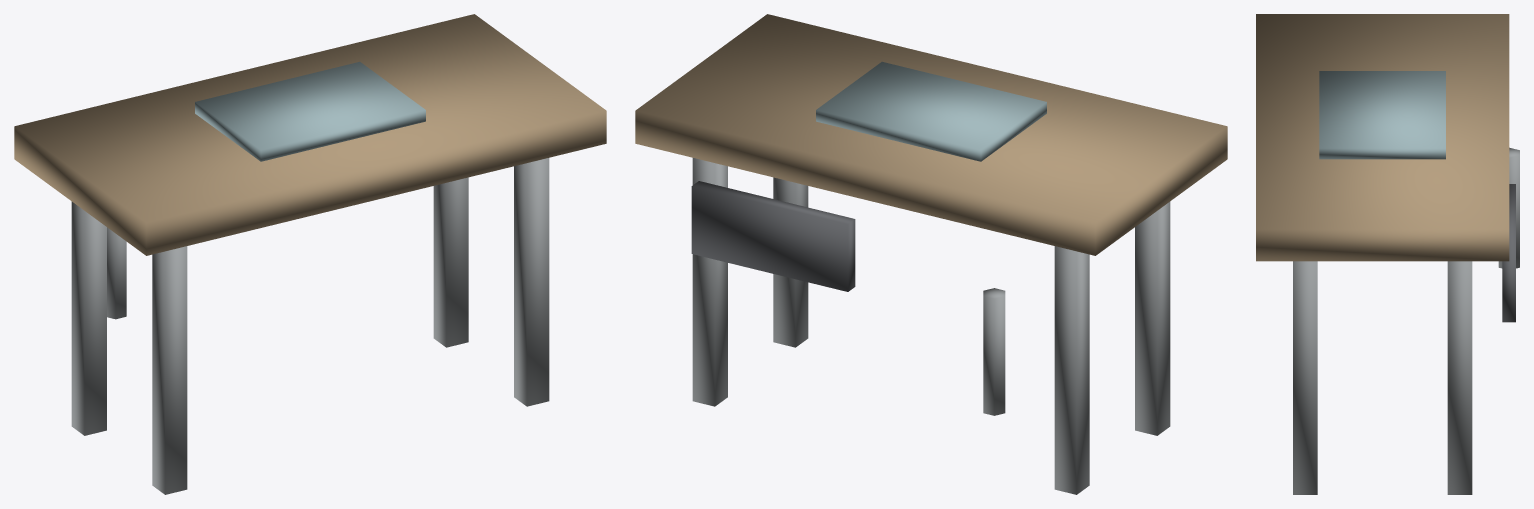
The model's file is material_inspection_table__service.glb.
3 renders of one model, left to right at view 1: azimuth 30°, elevation 25°; view 2: azimuth 150°, elevation 25°; view 3: azimuth 270°, elevation 25°, orthographic. The views are drawn at different scales.
Parts seen in each view (by area): view 1: world; view 2: world; view 3: world.
Part boxes in pixels (x1,y1,x2,y2): world: [14, 14, 606, 494]; world: [635, 14, 1227, 494]; world: [1256, 14, 1519, 494].
Bounding box in the file's own units: 1.45 × 0.9275 × 0.7503.
